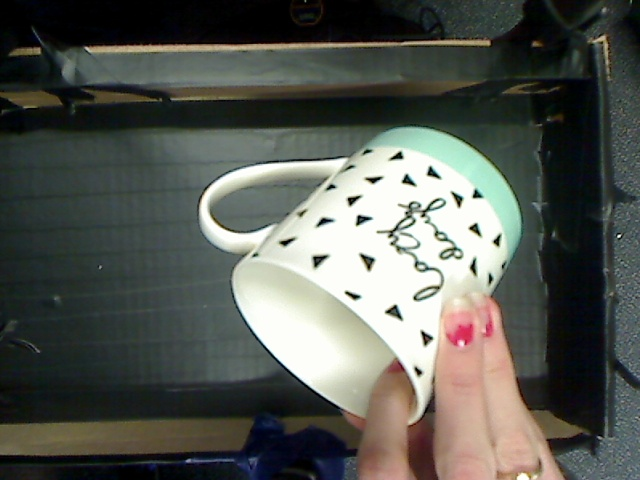mug: (188, 115, 544, 436)
